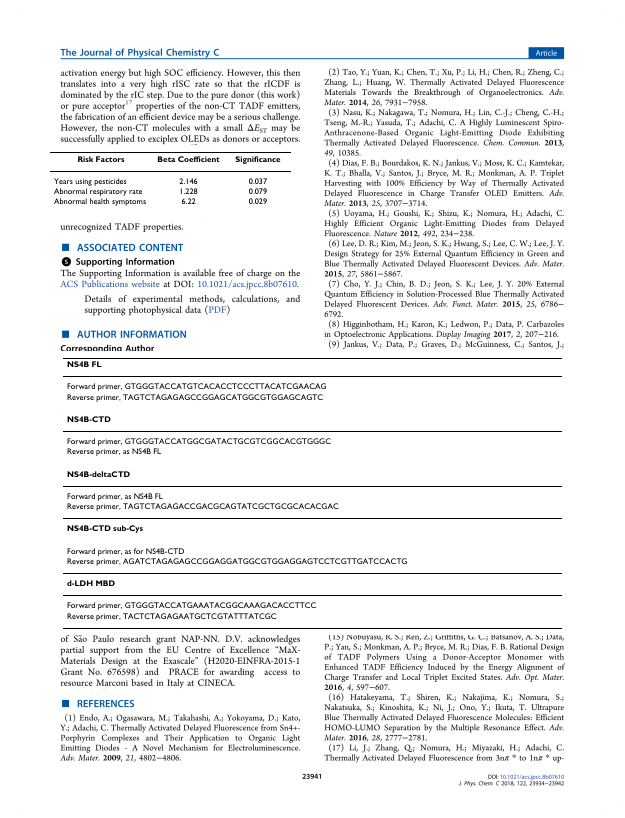borderless: (62, 356, 562, 628), (48, 150, 292, 215)
cell: (65, 557, 408, 567), (65, 502, 339, 512), (65, 437, 332, 447), (65, 393, 324, 403), (65, 383, 327, 392), (65, 602, 317, 611), (65, 612, 277, 622), (65, 547, 185, 557), (65, 492, 163, 502), (53, 197, 147, 207), (53, 187, 143, 197), (65, 448, 162, 457), (65, 525, 144, 534), (53, 177, 127, 186), (65, 470, 131, 480), (156, 155, 220, 164), (65, 415, 111, 425), (65, 580, 115, 589), (76, 155, 125, 164), (234, 155, 281, 164), (65, 361, 102, 370), (247, 187, 268, 197), (247, 197, 268, 207), (178, 187, 198, 197), (247, 177, 268, 186), (178, 177, 198, 186), (180, 197, 196, 207)
